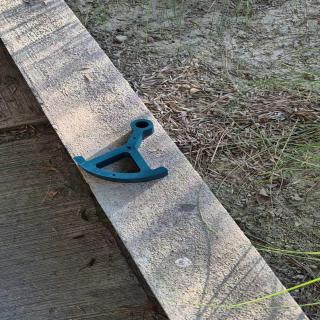haptic: (73, 118, 168, 184)
